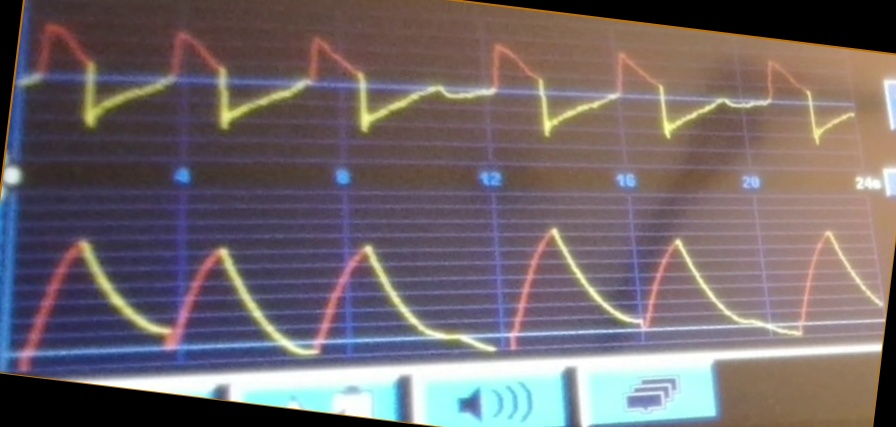Ineffective_effort Flow: (25, 20, 851, 153)
Ineffective_effort Volume: (14, 228, 877, 361)
